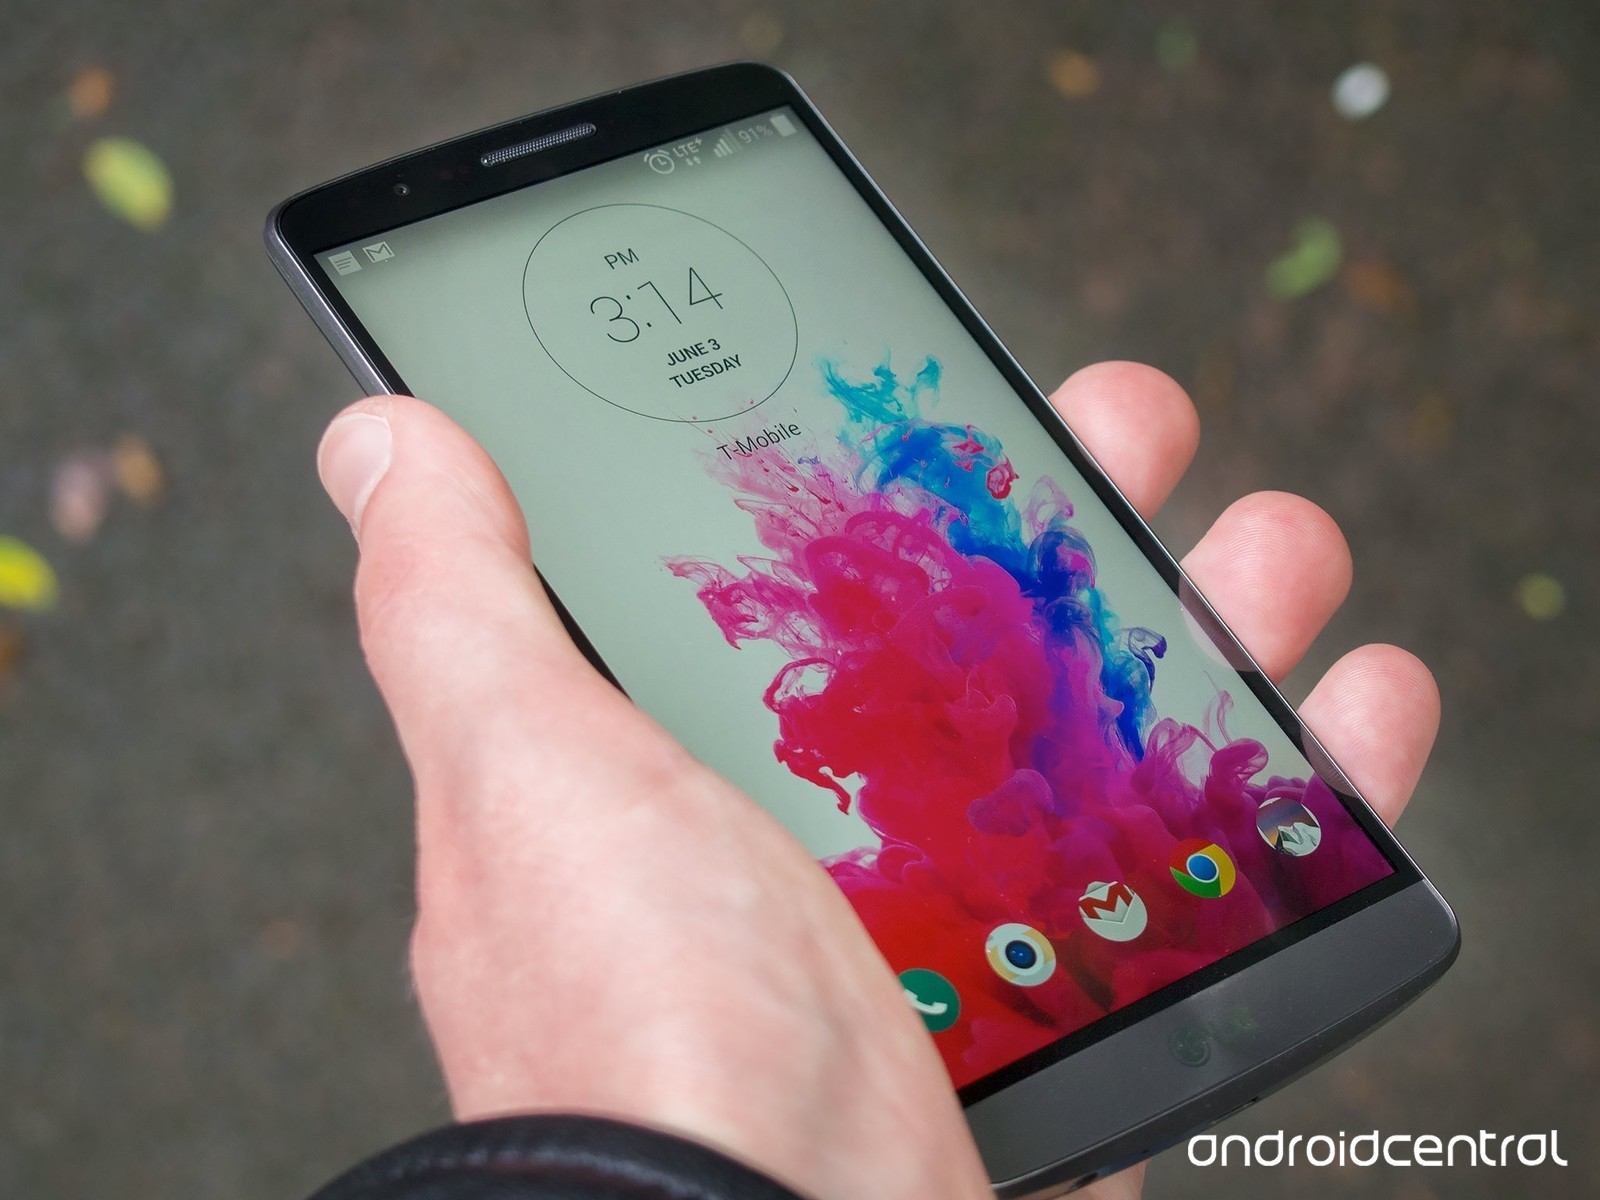smartphone: (263, 58, 1464, 1200)
